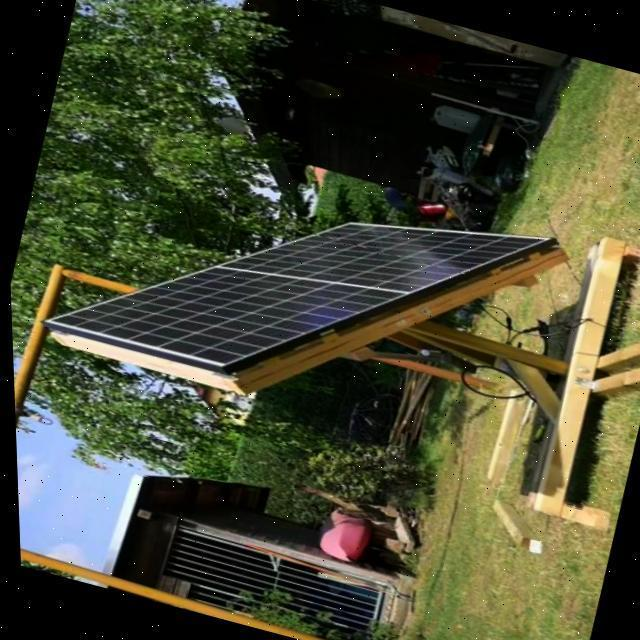Normal Solar Panel: (41, 116, 554, 446)
